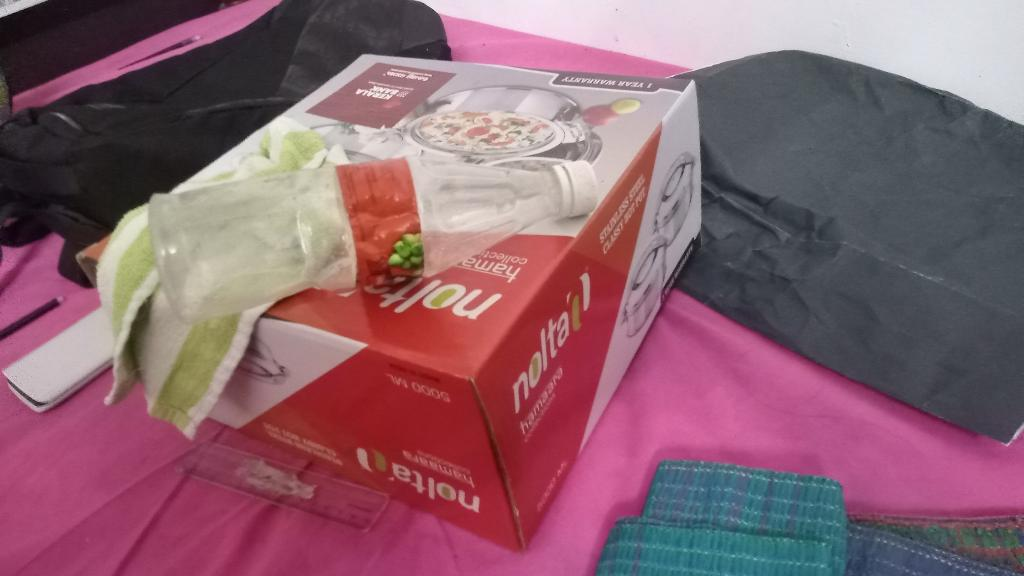garbage: (135, 140, 601, 330)
